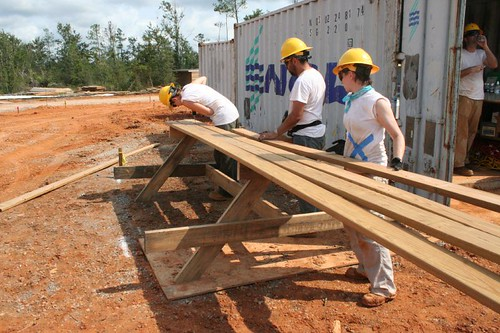person hardhat: (333, 43, 403, 305), (156, 77, 250, 201), (267, 33, 330, 149), (460, 19, 496, 190)
